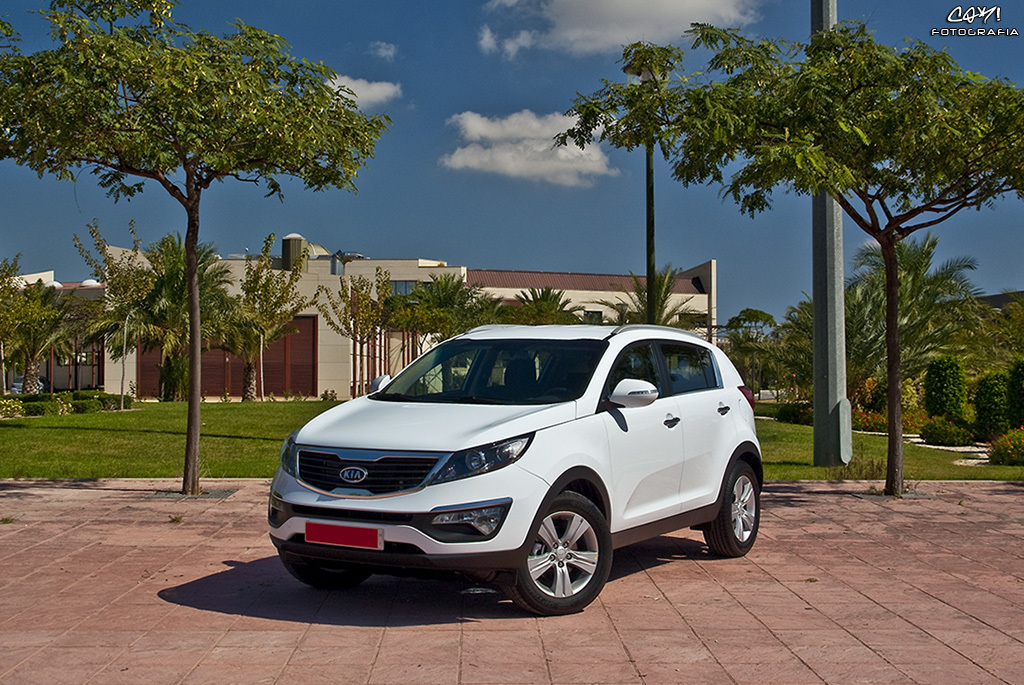Car: (268, 325, 762, 615), (10, 373, 49, 394)
